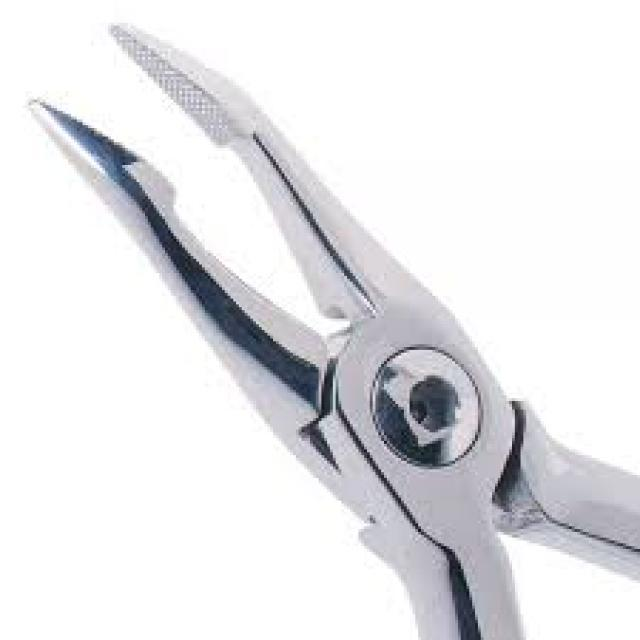pliers: (33, 16, 640, 640)
